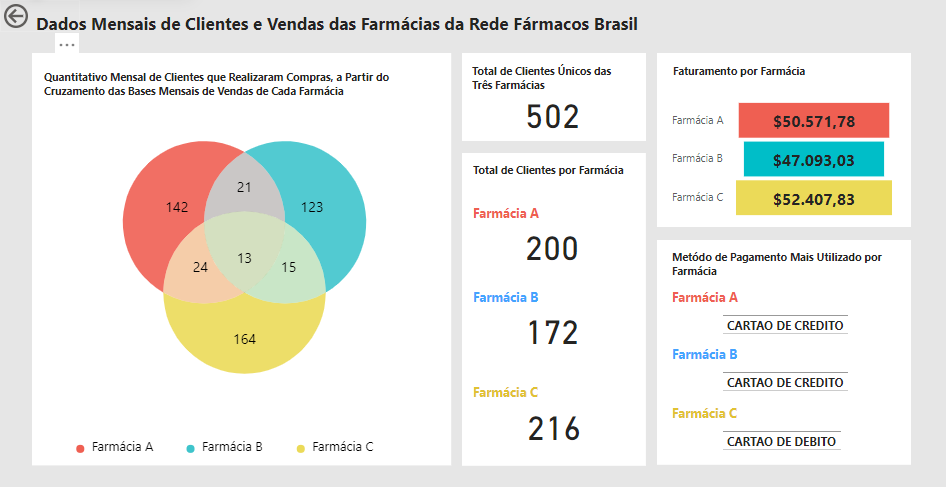

This screenshot's page, from the dashboard's own definition file:
{"tool":"powerbi","page":{"name":"Página 1","canvas":[1280,720],"ordinal":0},"visuals":[{"type":"shape","box":[40,66.7,524.2,515.5],"z":0},{"type":"shape","box":[577,190.7,229.9,391.5],"z":0,"group":"g1"},{"type":"textbox","box":[50,83,502.3,55],"z":1000},{"type":"group","id":"g1","title":"Grupo 1","box":[577,190.7,229.9,391.5],"z":2000},{"type":"group","id":"g2","title":"Grupo 2","box":[577.4,66.2,230.2,110],"z":3000},{"type":"shape","box":[820.9,66.1,317.5,217.5],"z":4000,"group":"g4"},{"type":"shape","box":[577.4,66.2,230.2,110],"z":4000,"group":"g2"},{"type":"group","id":"g3","title":"Grupo 2","box":[820.9,299.9,317.5,281.2],"z":4000},{"type":"shape","box":[820.9,299.9,317.5,281.2],"z":4000,"group":"g3"},{"type":"textbox","box":[586.3,198.2,210.8,57.1],"z":5000,"group":"g1"},{"type":"textbox","box":[585.9,250.1,112.5,31.2],"z":5000},{"type":"vennDiagram8527AJ74DB74562488PCR752UTY9465","fields":{"category":["VW_GRAFICO_VENN_FARMACIAS (3).FARMACIA_A","VW_GRAFICO_VENN_FARMACIAS (3).FARMACIA_B","VW_GRAFICO_VENN_FARMACIAS (3).FARMACIA_C"],"measure":["Sum(VW_GRAFICO_VENN_FARMACIAS (3).TOTAL)"]},"box":[78.4,158.6,447.5,422.5],"z":6000},{"type":"textbox","box":[584.9,74.6,210.6,46.6],"z":7000,"group":"g2"},{"type":"textbox","box":[835.9,74.9,283.8,28.8],"z":7000,"group":"g4"},{"type":"card","fields":{"Values":["Sum(VW_GRAFICO_VENN_FARMACIAS (3).TOTAL)"]},"box":[615.9,112.4,147.5,57.5],"z":7000},{"type":"textbox","box":[834.7,307.6,290,45],"z":7000,"group":"g3"},{"type":"card","fields":{"Values":["Count(FARMACIA_A (3).CODIGO_CLIENTE)"]},"box":[615.9,277.6,147.5,57.5],"z":8000},{"type":"card","fields":{"Values":["Count(FARMACIA_B (3).CODIGO_CLIENTE)"]},"box":[615.9,382.6,147.5,57.5],"z":9000},{"type":"card","fields":{"Values":["Count(FARMACIA_C (3).CODIGO_CLIENTE)"]},"box":[618.4,502.6,147.5,57.5],"z":10000},{"type":"textbox","box":[585.9,355.1,112.5,31.2],"z":11000},{"type":"textbox","box":[585.9,473.9,112.5,31.2],"z":12000},{"type":"actionButton","box":[0,0,100,40],"z":13000},{"type":"pivotTable","fields":{"Rows":["agrupamento_C.METODO_PAGAMENTO"]},"box":[898.8,510,226.2,66.2],"z":14000},{"type":"pivotTable","fields":{"Rows":["agrupamento_B.METODO_PAGAMENTO"]},"box":[898.8,436.2,221.2,65],"z":15000},{"type":"pivotTable","fields":{"Rows":["agrupamento_A.METODO_PAGAMENTO"]},"box":[898.8,365,218.8,68.8],"z":16000},{"type":"textbox","box":[834.7,354.9,112.5,31.2],"z":17000},{"type":"textbox","box":[834.7,426.1,112.5,31.2],"z":18000},{"type":"textbox","box":[834.7,499.9,112.5,31.2],"z":19000},{"type":"group","id":"g4","title":"Grupo 2","box":[820.9,66.1,317.5,217.5],"z":20000},{"type":"funnel","fields":{"Y":["Sum(FARMACIA_A (3).VALOR_COMPRA)","Sum(FARMACIA_B (3).VALOR_COMPRA)","Sum(FARMACIA_C (3).VALOR_COMPRA)"]},"box":[834.7,118.6,290,160],"z":21000},{"type":"textbox","box":[40,10,1098.9,45.6],"z":22000}]}

Visuals, with their boxes on the page's 1280x720 design canvas (x1, y1, x2, y2). These are canvas units, not pixel positions in the 946x487 screenshot, which may show the page scaled, cropped or inside an application window:
shape: [40, 67, 564, 582]
shape: [577, 191, 807, 582]
textbox: [50, 83, 552, 138]
"Grupo 1" group: [577, 191, 807, 582]
"Grupo 2" group: [577, 66, 808, 176]
shape: [821, 66, 1138, 284]
shape: [577, 66, 808, 176]
"Grupo 2" group: [821, 300, 1138, 581]
shape: [821, 300, 1138, 581]
textbox: [586, 198, 797, 255]
textbox: [586, 250, 698, 281]
vennDiagram8527AJ74DB74562488PCR752UTY9465 - VW_GRAFICO_VENN_FARMACIAS (3).FARMACIA_A x VW_GRAFICO_VENN_FARMACIAS (3).FARMACIA_B: [78, 159, 526, 581]
textbox: [585, 75, 796, 121]
textbox: [836, 75, 1120, 104]
card - Sum(VW_GRAFICO_VENN_FARMACIAS (3).TOTAL): [616, 112, 763, 170]
textbox: [835, 308, 1125, 353]
card - Count(FARMACIA_A (3).CODIGO_CLIENTE): [616, 278, 763, 335]
card - Count(FARMACIA_B (3).CODIGO_CLIENTE): [616, 383, 763, 440]
card - Count(FARMACIA_C (3).CODIGO_CLIENTE): [618, 503, 766, 560]
textbox: [586, 355, 698, 386]
textbox: [586, 474, 698, 505]
actionButton: [0, 0, 100, 40]
pivotTable - agrupamento_C.METODO_PAGAMENTO: [899, 510, 1125, 576]
pivotTable - agrupamento_B.METODO_PAGAMENTO: [899, 436, 1120, 501]
pivotTable - agrupamento_A.METODO_PAGAMENTO: [899, 365, 1118, 434]
textbox: [835, 355, 947, 386]
textbox: [835, 426, 947, 457]
textbox: [835, 500, 947, 531]
"Grupo 2" group: [821, 66, 1138, 284]
funnel - Sum(FARMACIA_A (3).VALOR_COMPRA) x Sum(FARMACIA_B (3).VALOR_COMPRA): [835, 119, 1125, 279]
textbox: [40, 10, 1139, 56]
